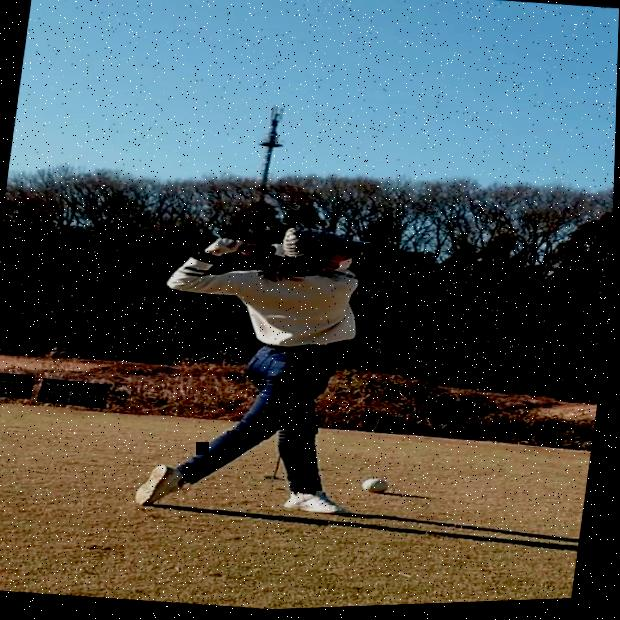ClubHead: (529, 324, 557, 352)
